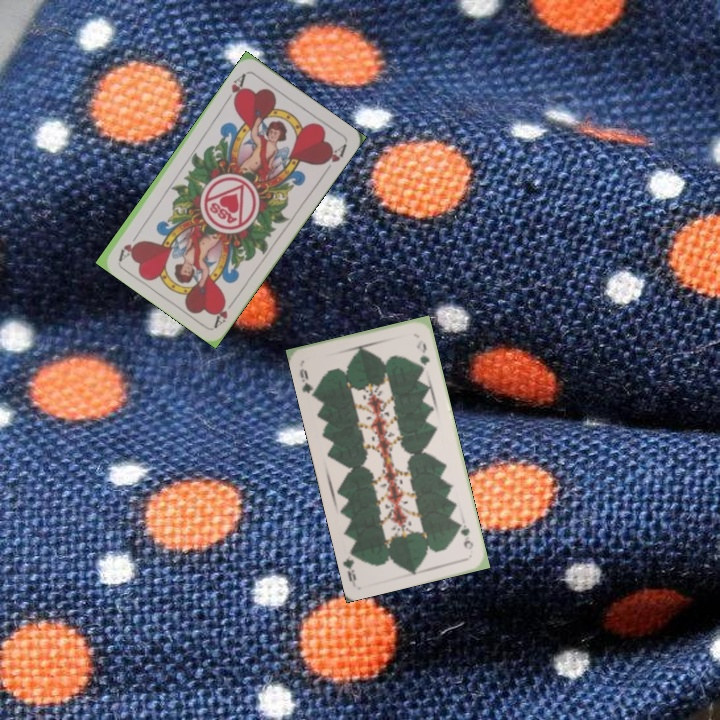G9: (295, 365, 320, 400), (455, 518, 476, 552)
HA: (210, 294, 239, 330), (222, 69, 249, 106)
